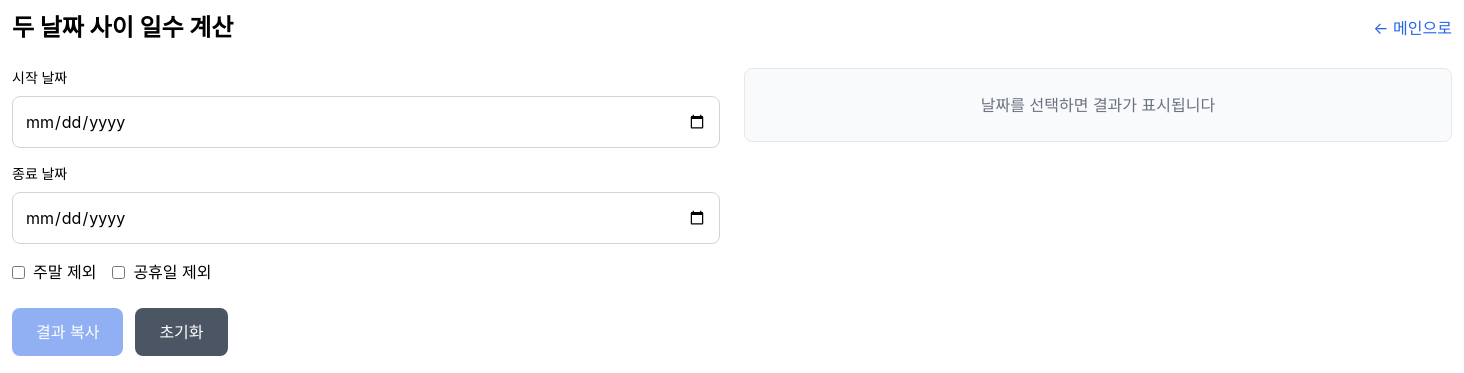
BetweenDatesPage › calculates difference between two dates
Type "2023-01-01" into the date field labelled "시작 날짜".
click(366, 122); type("2023-01-01")  # box [12,96,720,148]
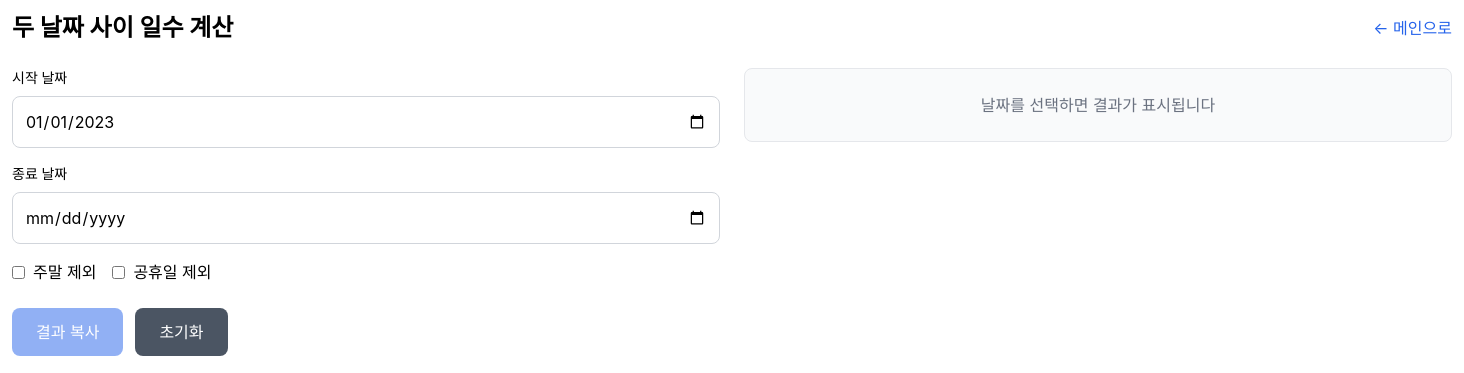
Type "2023-01-11" into the date field labelled "종료 날짜".
click(366, 218); type("2023-01-11")  # box [12,192,720,244]
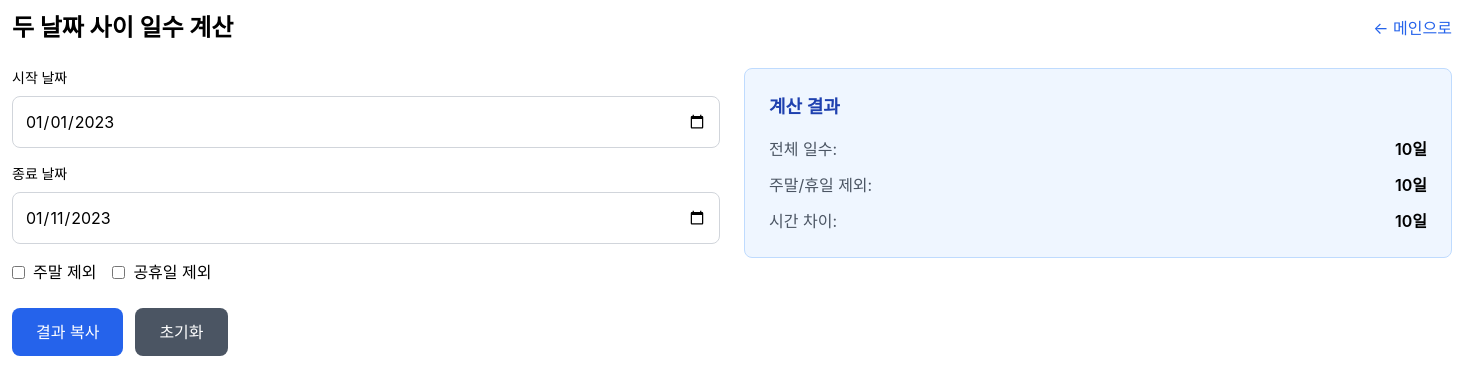
Now the heading "계산 결과" is shown, box [769,96,840,117]
Now the text "전체 일수:" is shown, box [769,137,837,161]
Now the text "10일" in the row of "전체 일수:" is shown, box [1395,137,1427,161]
